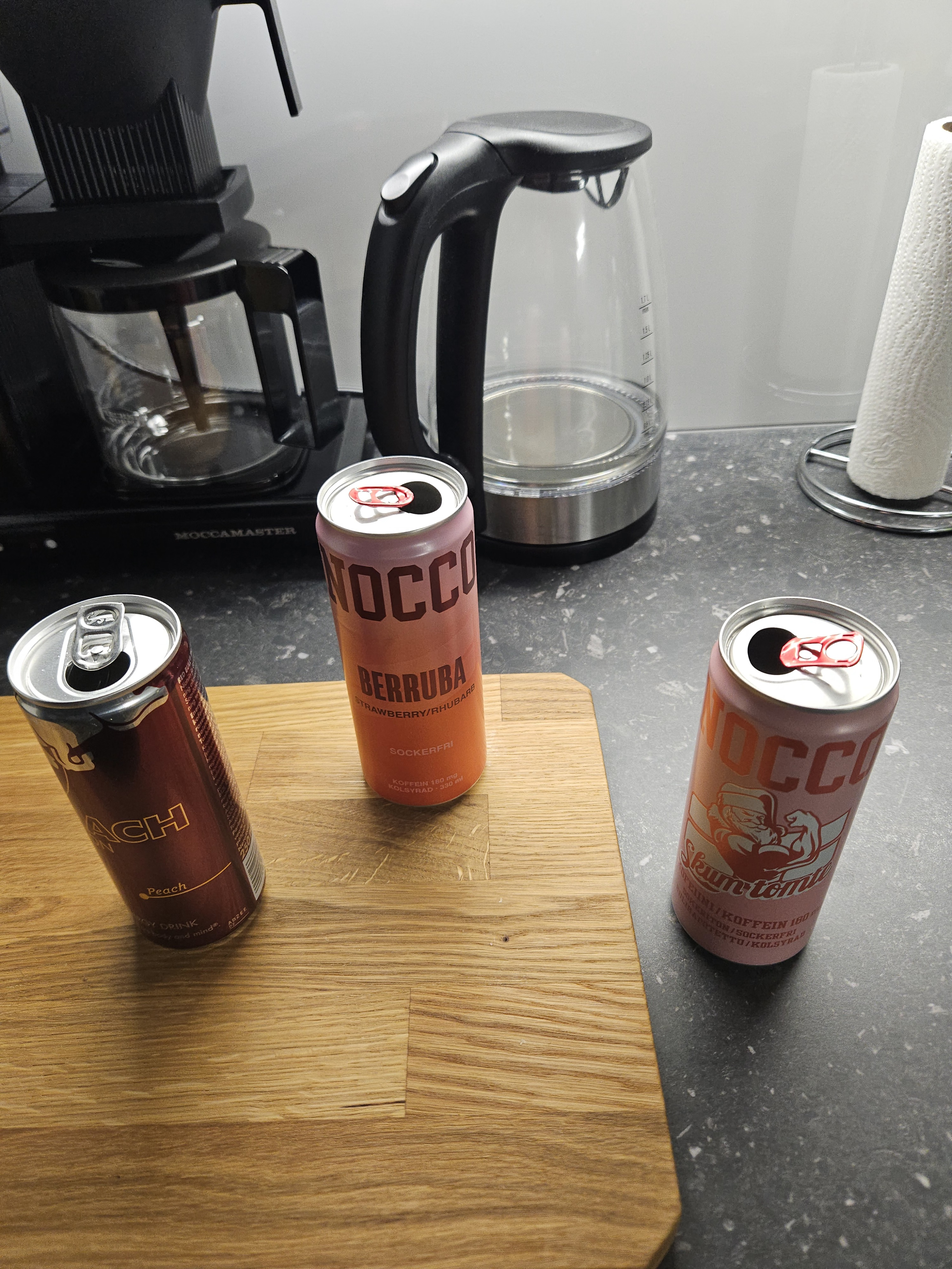Pantburk: (3, 592, 284, 953), (655, 592, 909, 978), (317, 452, 499, 807)
